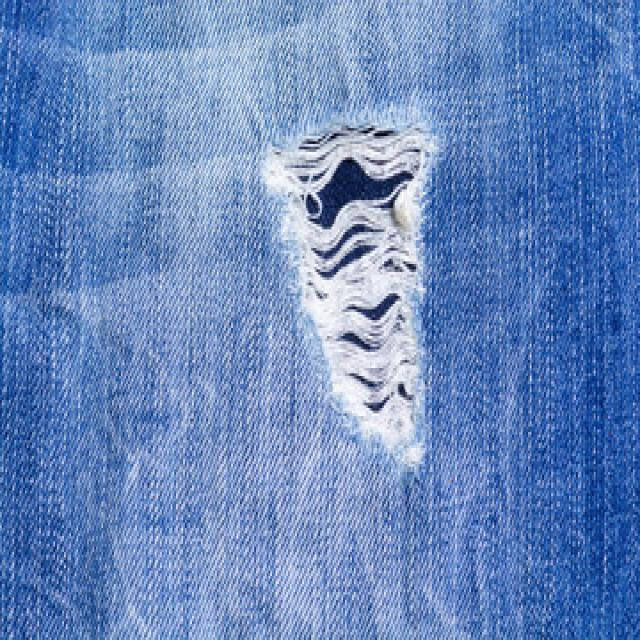Hole: (264, 126, 439, 470)
